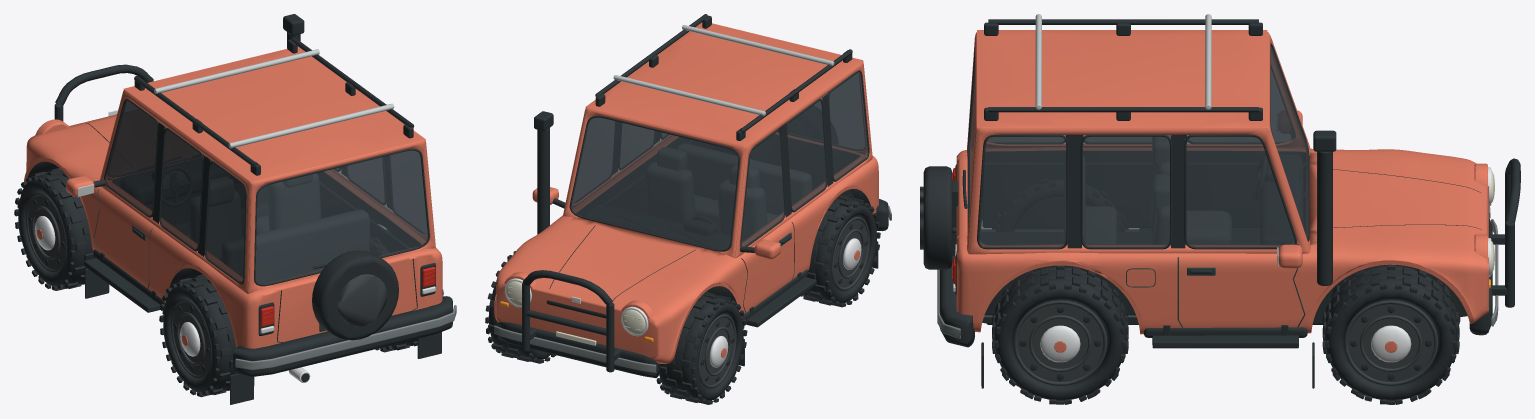
File: cob_lod1.fbx
The picture shows the model from 3 angles, left to right: view 1: azimuth 30°, elevation 25°; view 2: azimuth 150°, elevation 25°; view 3: azimuth 270°, elevation 25°; orthographic projection. The views are drawn at different scales.
Visible parts, largest first — view 1: Body, Wheel_RL_Mesh, Wheel_FL_Mesh, Wheel_RR_Mesh; view 2: Body, Wheel_FL_Mesh, Wheel_RL_Mesh, Wheel_FR_Mesh; view 3: Body, Wheel_FR_Mesh, Wheel_RR_Mesh, Wheel_RL_Mesh.
Part boxes in pixels (x1=…): Body: x1=24, y1=14, x2=456, y2=404; Wheel_RL_Mesh: x1=159, y1=274, x2=236, y2=397; Wheel_FL_Mesh: x1=14, y1=168, x2=94, y2=290; Wheel_RR_Mesh: x1=369, y1=229, x2=443, y2=352; Body: x1=494, y1=14, x2=891, y2=378; Wheel_FL_Mesh: x1=656, y1=292, x2=747, y2=404; Wheel_RL_Mesh: x1=800, y1=194, x2=880, y2=307; Wheel_FR_Mesh: x1=485, y1=251, x2=555, y2=363; Body: x1=920, y1=14, x2=1520, y2=388; Wheel_FR_Mesh: x1=1322, y1=264, x2=1459, y2=404; Wheel_RR_Mesh: x1=992, y1=265, x2=1128, y2=404; Wheel_RL_Mesh: x1=992, y1=178, x2=1128, y2=231.
Size of the model in its own units: 241 by 219 by 418.
